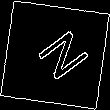N_SW: (23, 23, 87, 87)
